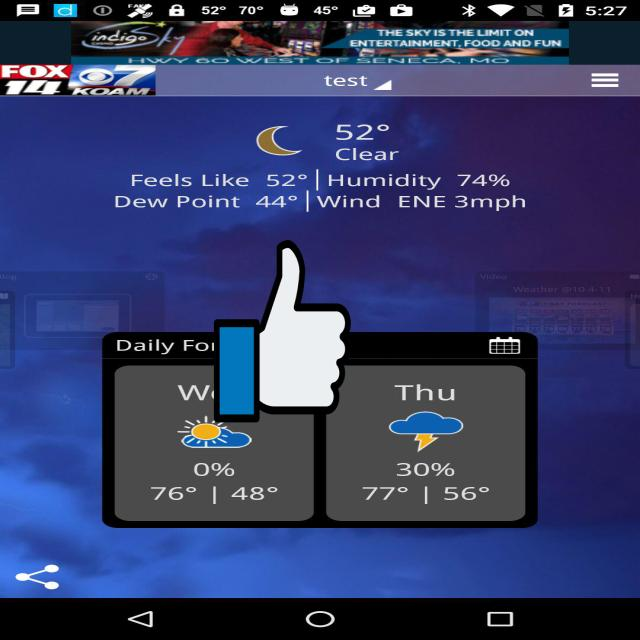privacy zuckering: (214, 236, 351, 426)
